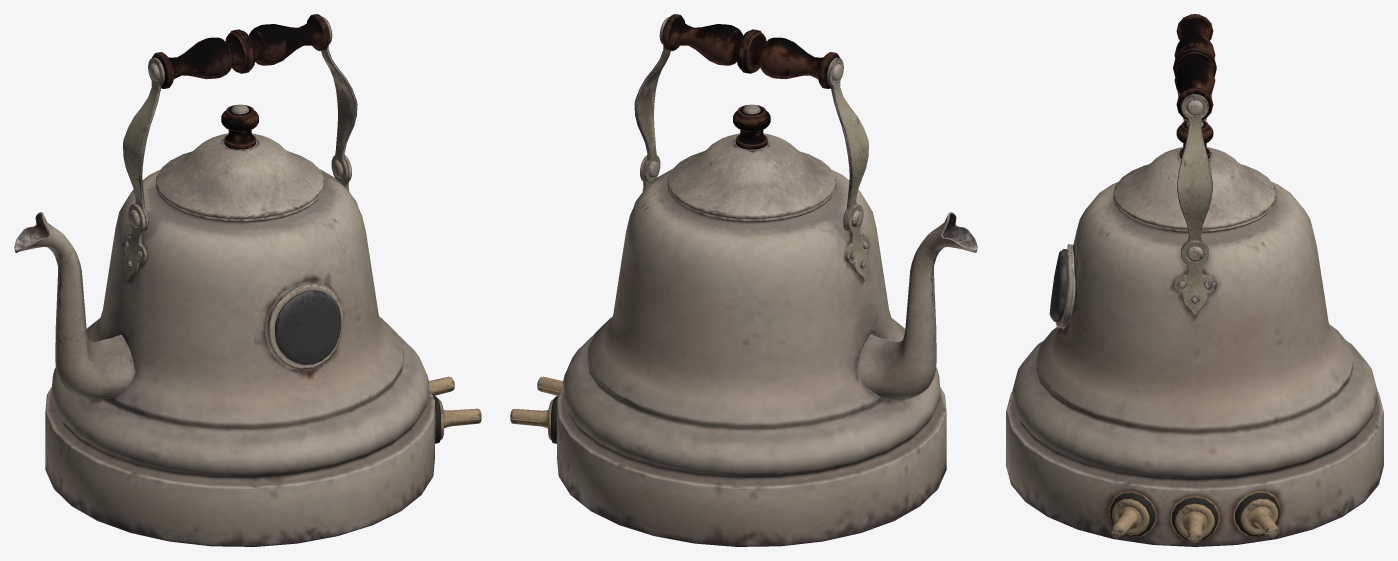
The model's file is vintage_electric_kettle.glb.
The picture shows the model from 3 angles, left to right: view 1: azimuth 30°, elevation 25°; view 2: azimuth 150°, elevation 25°; view 3: azimuth 270°, elevation 25°; orthographic projection. The views are drawn at different scales.
Visible parts, largest first — view 1: vintage_electric_kettle; view 2: vintage_electric_kettle; view 3: vintage_electric_kettle.
Part boxes in pixels (<box>): vintage_electric_kettle: <box>14,14,481,546</box>; vintage_electric_kettle: <box>510,14,977,546</box>; vintage_electric_kettle: <box>1006,14,1383,546</box>.
Size of the model in its own units: 0.3209 by 0.3047 by 0.2486.
Materials: 2 (2 with a texture image).
